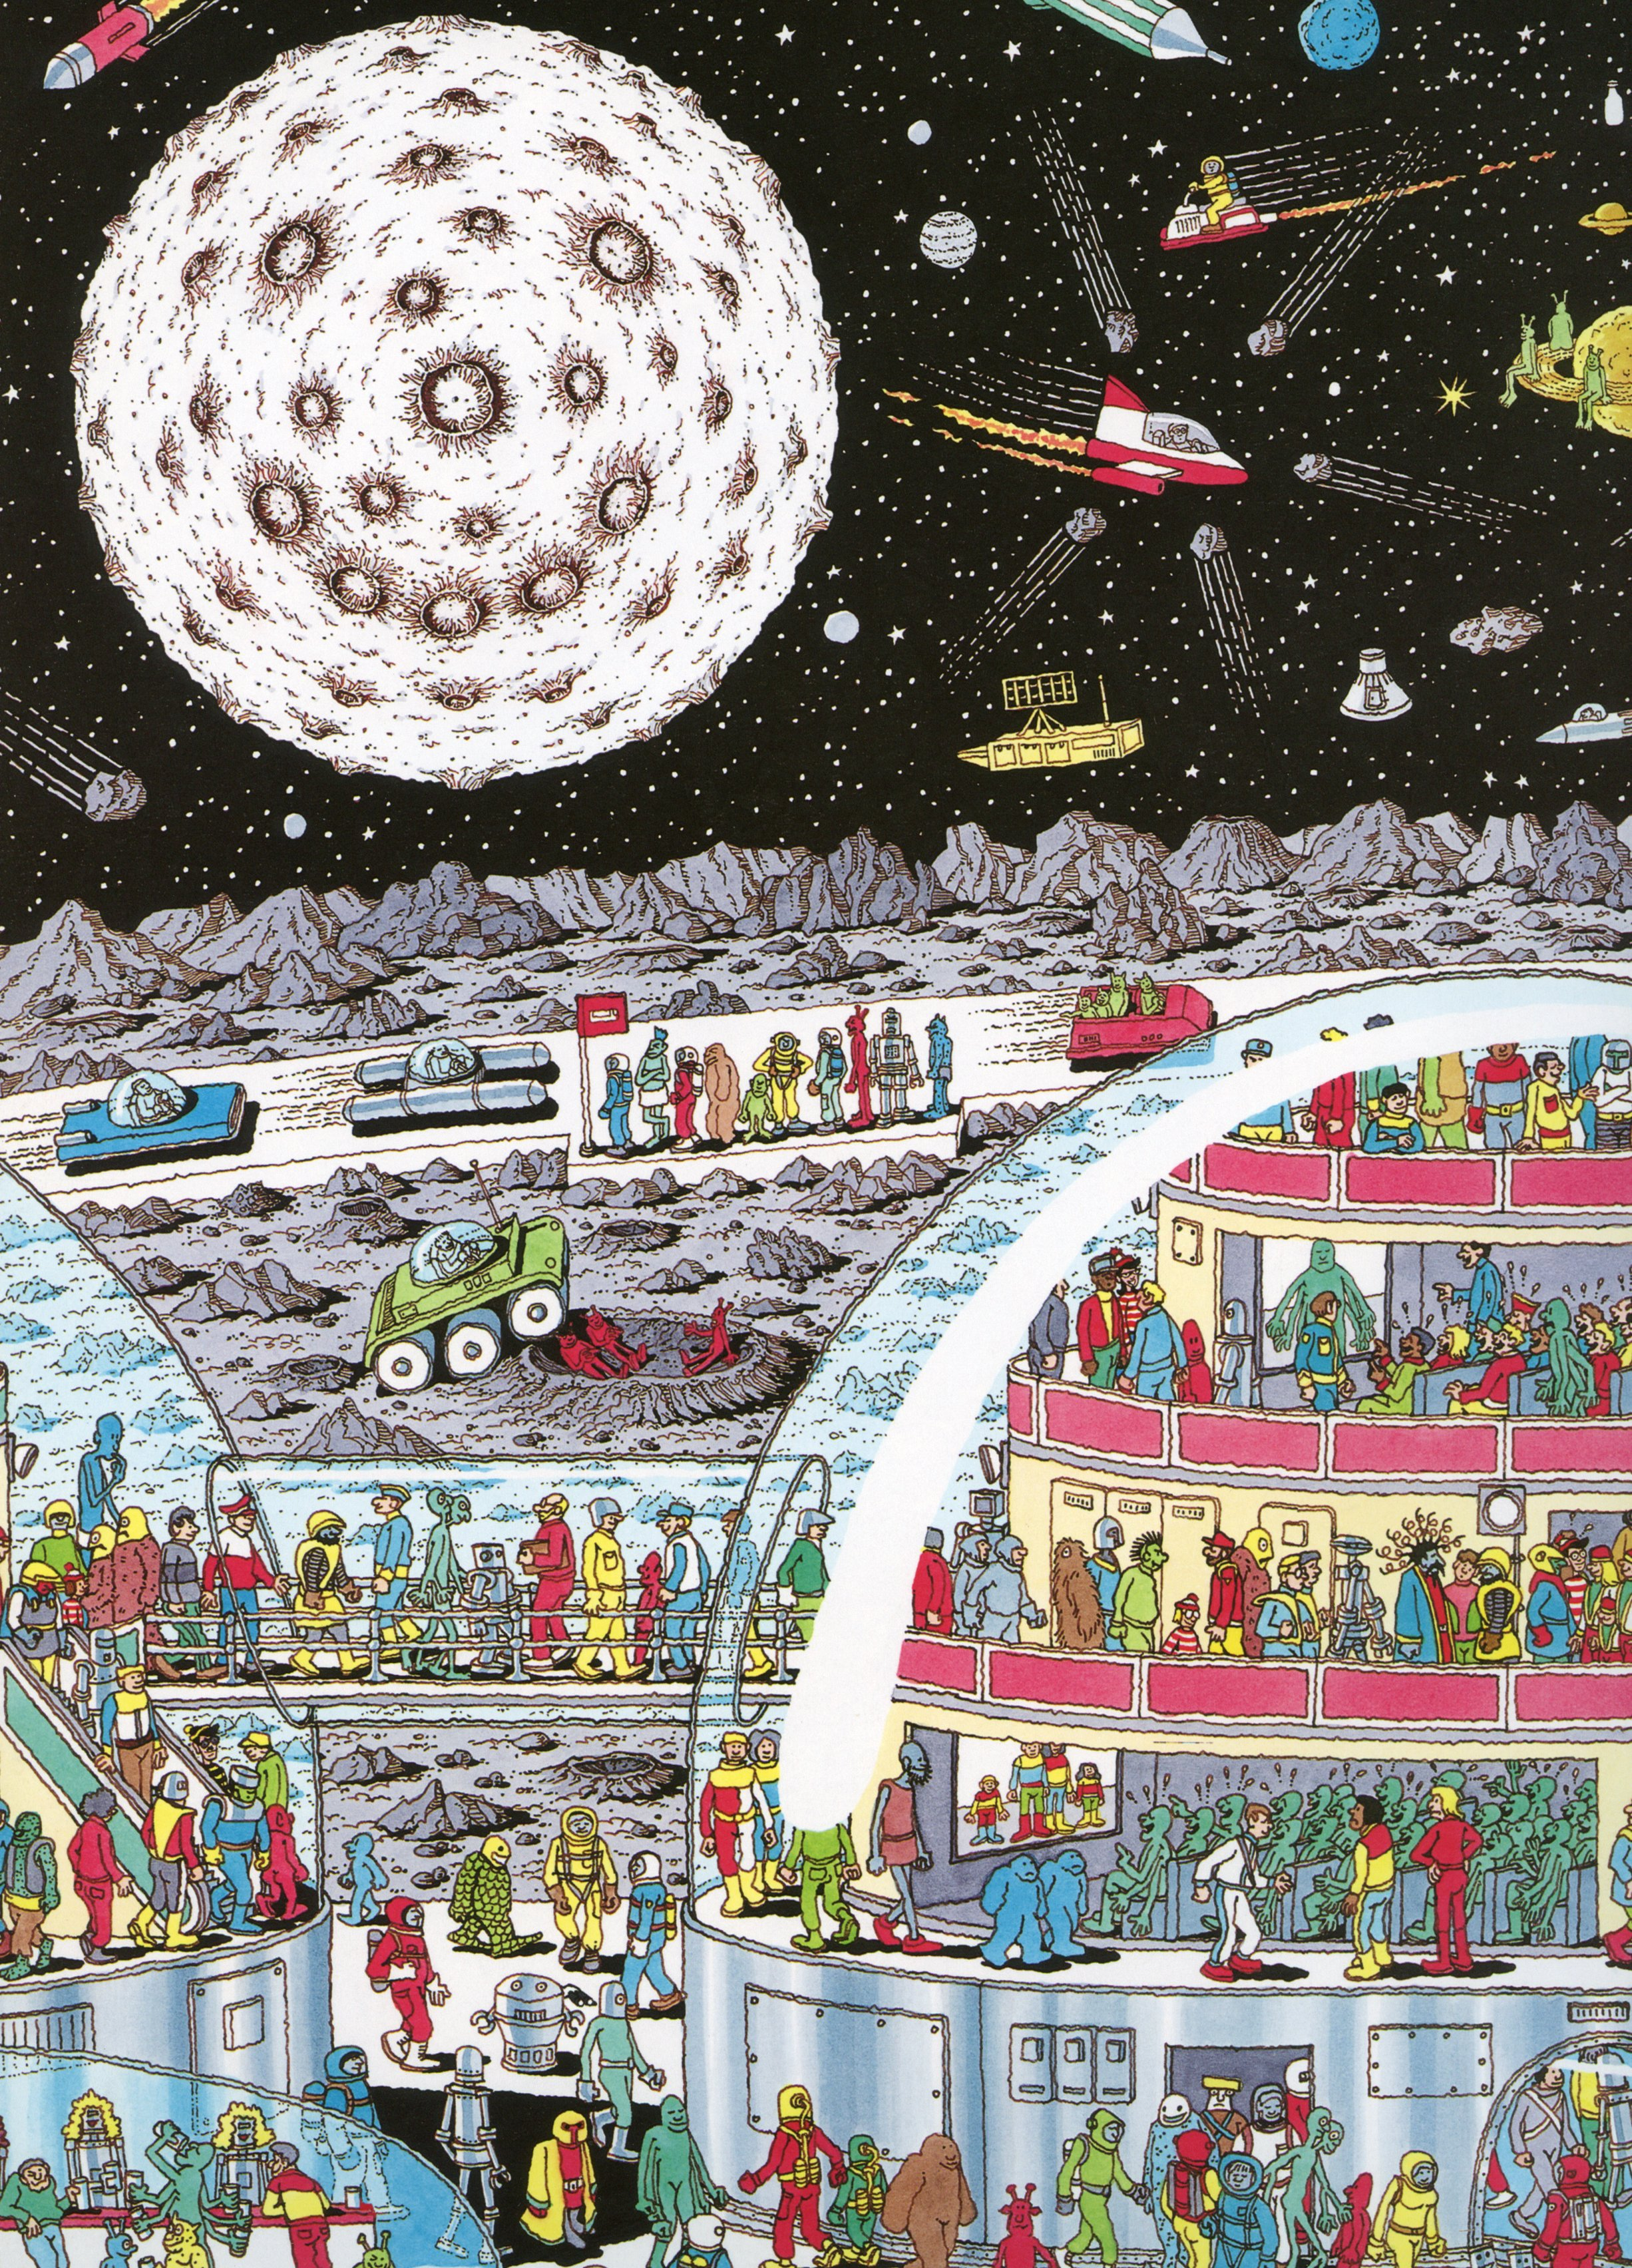Waldo: (951, 1164, 1195, 1446)
not Waldo: (1384, 1476, 1632, 1784)
